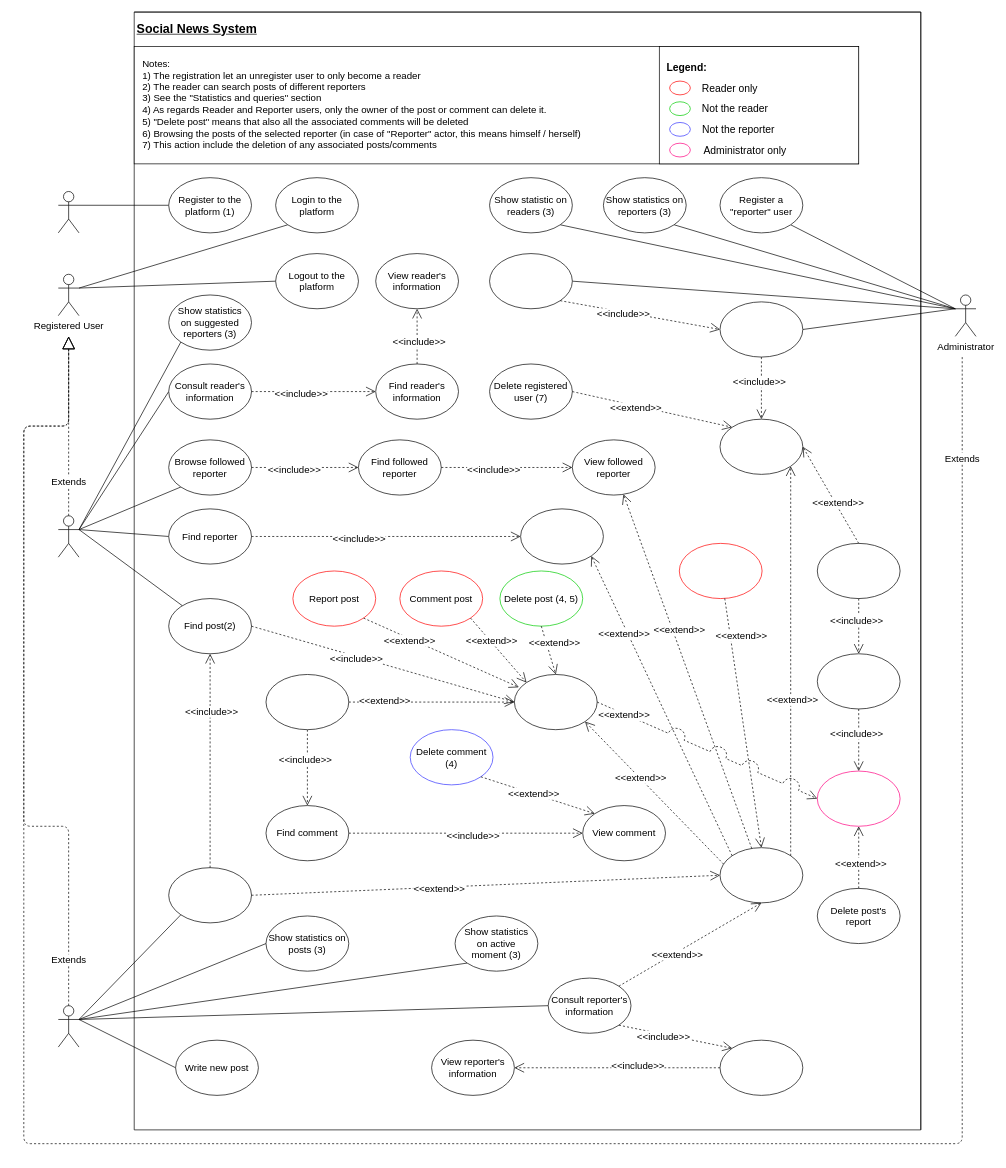
The diagram is 1006 pixels wide and 1168 high, and some of its shapes have lost their labels. Here are the shapes that lost their labels. From the top down, the centre of each, then its label:
pixel 68 212: Unregistered User
pixel 530 281: Browse registered user
pixel 761 329: Find registered user
pixel 761 446: View registered user
pixel 68 536: Reader
pixel 561 536: View reporter
pixel 720 571: Follow reporter
pixel 858 571: Browse post's report
pixel 858 681: Find post's report
pixel 307 702: Browse comment
pixel 555 702: View post
pixel 858 798: View post's report
pixel 210 895: Browse post (6)
pixel 761 875: View reporter's page
pixel 68 1026: Reporter
pixel 761 1067: Find reporter's information
